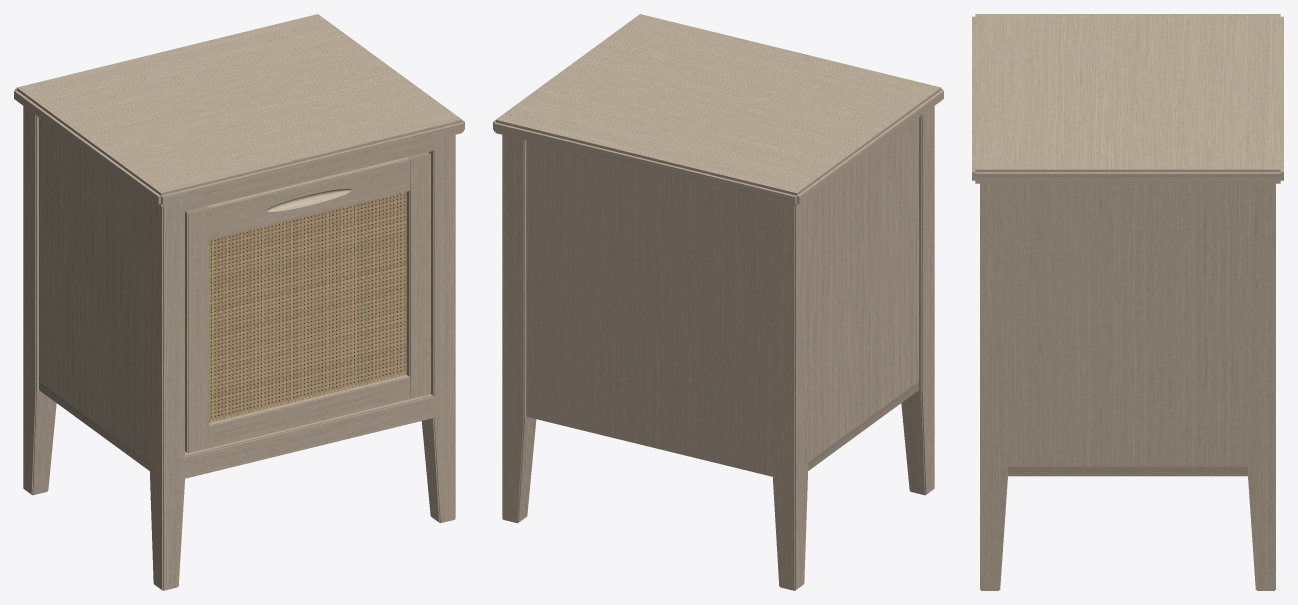
File: cane-door-nightstand.glb
3 views of the same model, side by side, from view 1: azimuth 30°, elevation 25°; view 2: azimuth 150°, elevation 25°; view 3: azimuth 270°, elevation 25° (orthographic). The views are drawn at different scales.
Visible parts, largest first — view 1: top, cane, side-1, leg-1-1, leg1-1, leg-11, interior, rail_top, apron, stile1, stile-1, rail_bot (+2 smaller); view 2: back, top, side-1, leg-11, leg11, leg-1-1, bottom; view 3: side1, top, leg1-1, leg11, bottom.
Boxes of the visible parts, x1,y1,x2,y2 form: top: (14, 14, 464, 206); cane: (209, 191, 406, 422); side-1: (39, 117, 149, 470); leg-1-1: (150, 199, 184, 590); leg1-1: (421, 135, 455, 523); leg-11: (23, 106, 56, 495); interior: (211, 194, 401, 417); rail_top: (206, 157, 410, 239); apron: (183, 394, 435, 478); stile1: (404, 152, 430, 398); stile-1: (185, 206, 208, 453); rail_bot: (208, 373, 410, 448); back: (526, 140, 772, 476); top: (493, 14, 943, 206); side-1: (808, 117, 918, 462); leg-11: (773, 199, 807, 590); leg11: (502, 135, 536, 523); leg-1-1: (901, 106, 934, 495); bottom: (526, 381, 918, 476); side1: (1008, 183, 1247, 476); top: (972, 14, 1283, 183); leg1-1: (980, 183, 1007, 590); leg11: (1248, 183, 1275, 590); bottom: (1008, 466, 1247, 476).
Bounding box in the file's own units: 0.48 × 0.6 × 0.4.
4 materials, 2 textured.
